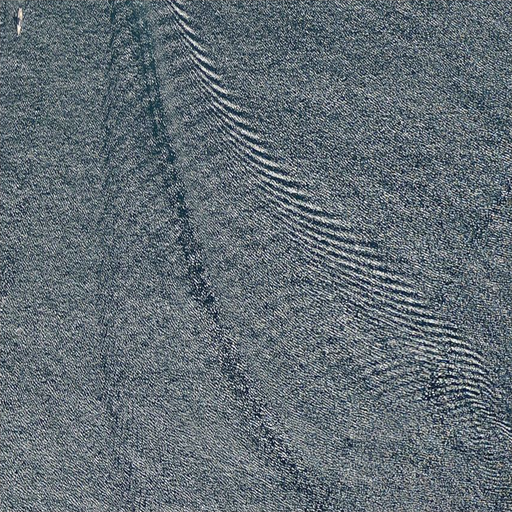ship: (15, 7, 22, 34)
